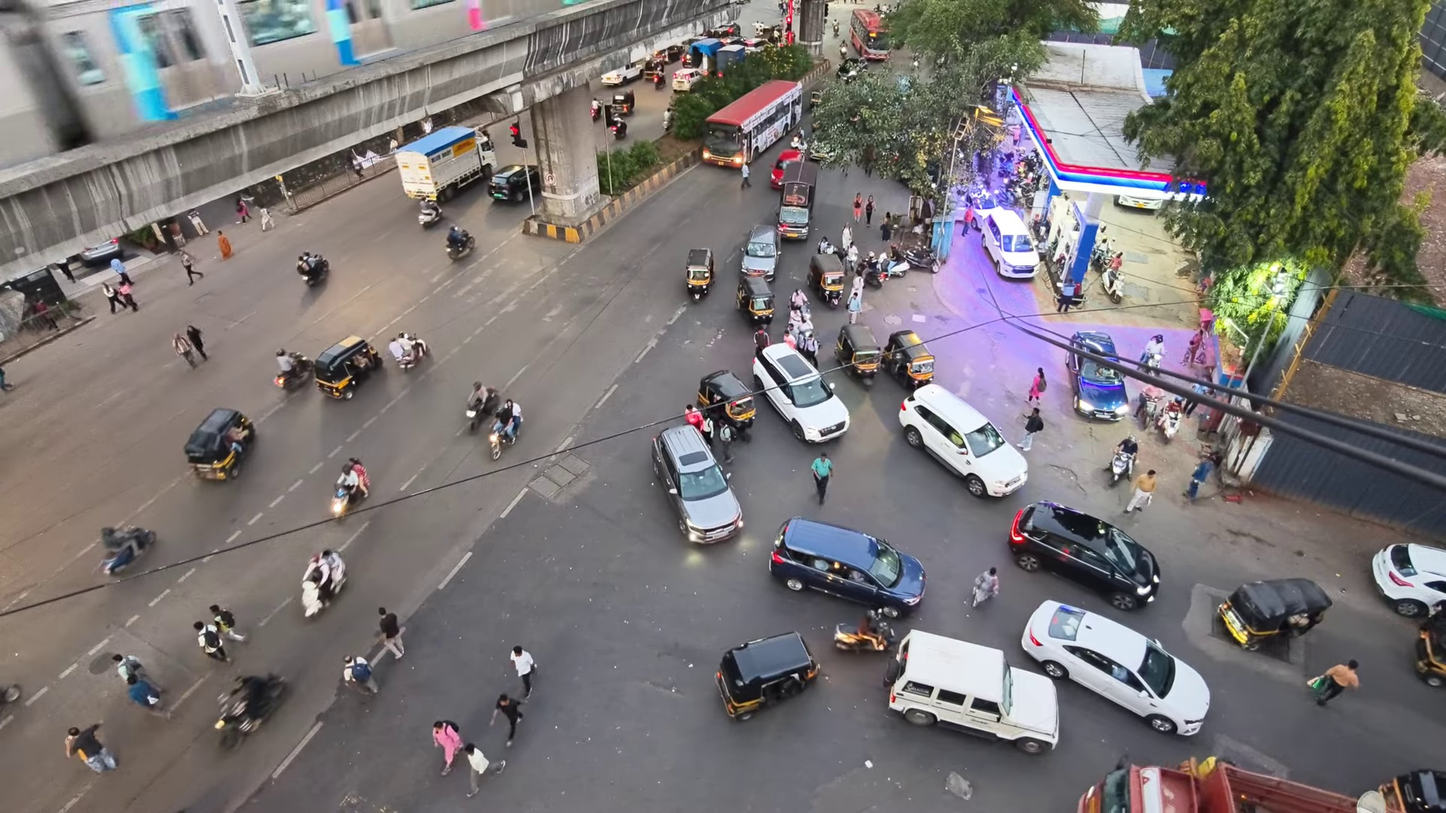driving: (1021, 601, 1210, 735), (886, 629, 1059, 754), (1077, 757, 1405, 812), (1008, 501, 1159, 611), (770, 517, 925, 617), (898, 384, 1027, 497), (652, 425, 743, 543), (753, 343, 849, 443), (715, 632, 819, 720), (702, 80, 801, 167), (1217, 577, 1332, 649), (395, 126, 497, 201), (1066, 330, 1130, 420), (213, 674, 287, 749), (1371, 543, 1445, 617), (184, 407, 255, 480), (313, 336, 381, 399), (697, 369, 755, 440), (777, 161, 817, 239), (301, 551, 346, 617), (883, 330, 934, 388), (834, 324, 881, 382), (834, 610, 896, 651), (740, 225, 780, 281), (488, 164, 541, 202), (808, 253, 845, 307), (850, 9, 889, 59), (736, 275, 773, 324), (685, 248, 713, 301), (682, 37, 724, 72), (770, 148, 802, 190), (78, 239, 123, 266), (712, 43, 746, 76), (600, 62, 643, 86), (671, 68, 706, 91)
walking: (65, 722, 116, 772), (462, 743, 505, 797), (1310, 659, 1358, 706), (111, 654, 163, 690), (127, 674, 168, 718), (489, 694, 522, 746), (432, 720, 462, 775), (194, 621, 229, 662), (509, 646, 535, 699), (1124, 470, 1156, 513), (209, 604, 246, 641), (343, 656, 379, 693), (1185, 456, 1214, 501), (379, 607, 404, 659), (810, 452, 833, 504), (1018, 407, 1044, 452), (971, 567, 999, 607), (1182, 383, 1209, 416), (185, 325, 208, 359), (181, 250, 203, 285), (717, 420, 734, 462), (1057, 280, 1079, 312), (1027, 367, 1046, 404), (173, 333, 193, 367), (117, 280, 138, 311), (683, 404, 703, 433), (109, 257, 130, 283), (102, 283, 120, 313), (753, 326, 770, 357), (188, 210, 208, 236), (847, 291, 862, 324), (700, 412, 714, 447), (54, 260, 76, 282), (880, 212, 893, 242), (258, 206, 274, 230), (218, 231, 232, 258), (840, 224, 853, 253), (236, 197, 249, 224), (865, 195, 875, 226), (0, 368, 14, 390), (853, 193, 863, 222), (740, 163, 750, 187)
